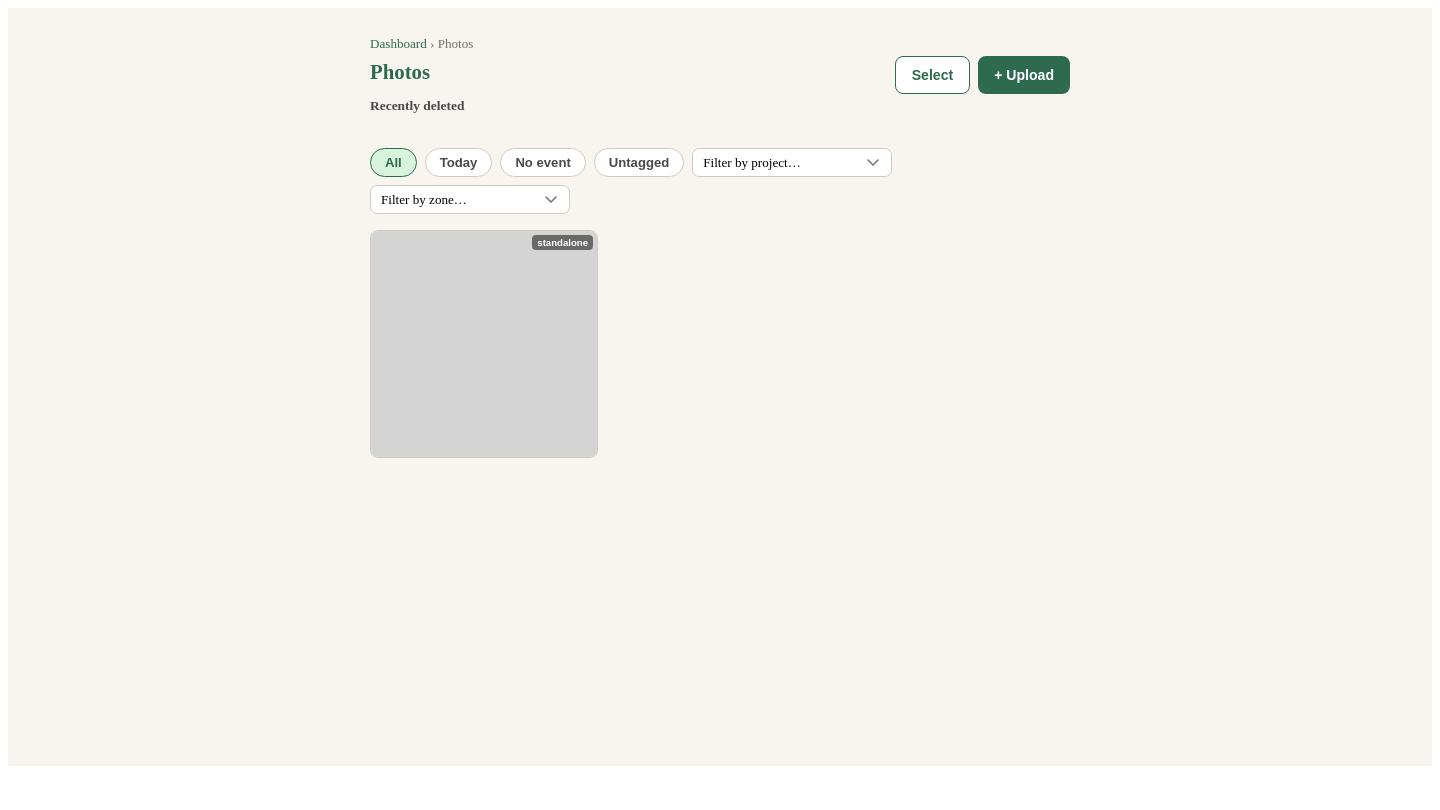
it: PhotoLibrary — reload gate (V4-DIRTYGUARDSWEEP-001) › does NOT hold the reload for a multi-select selection
Click the button "Select" at coordinates (932, 75), box [895,56,970,94]
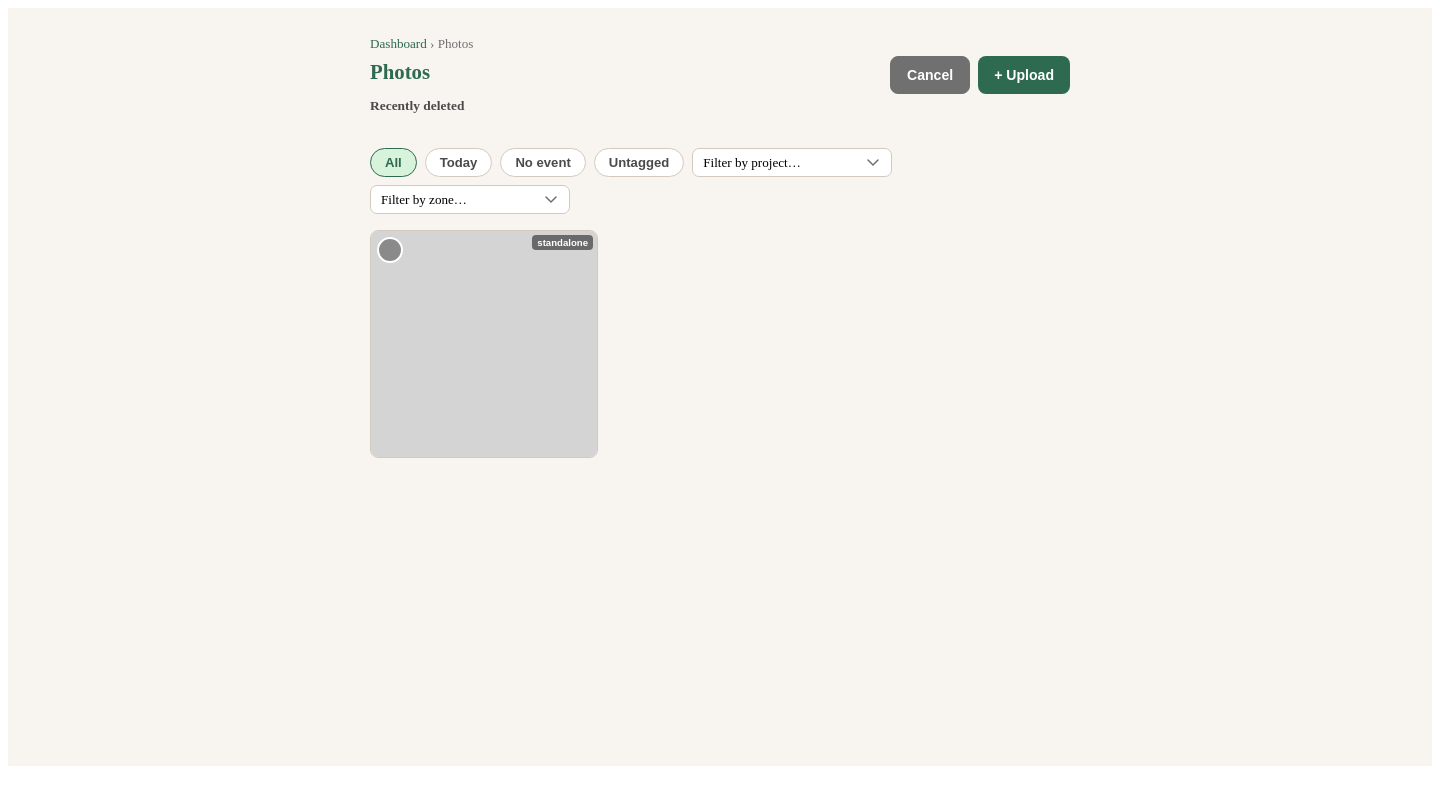
Click the button with alt text "tag me" at coordinates (484, 344), box [370,230,598,458]
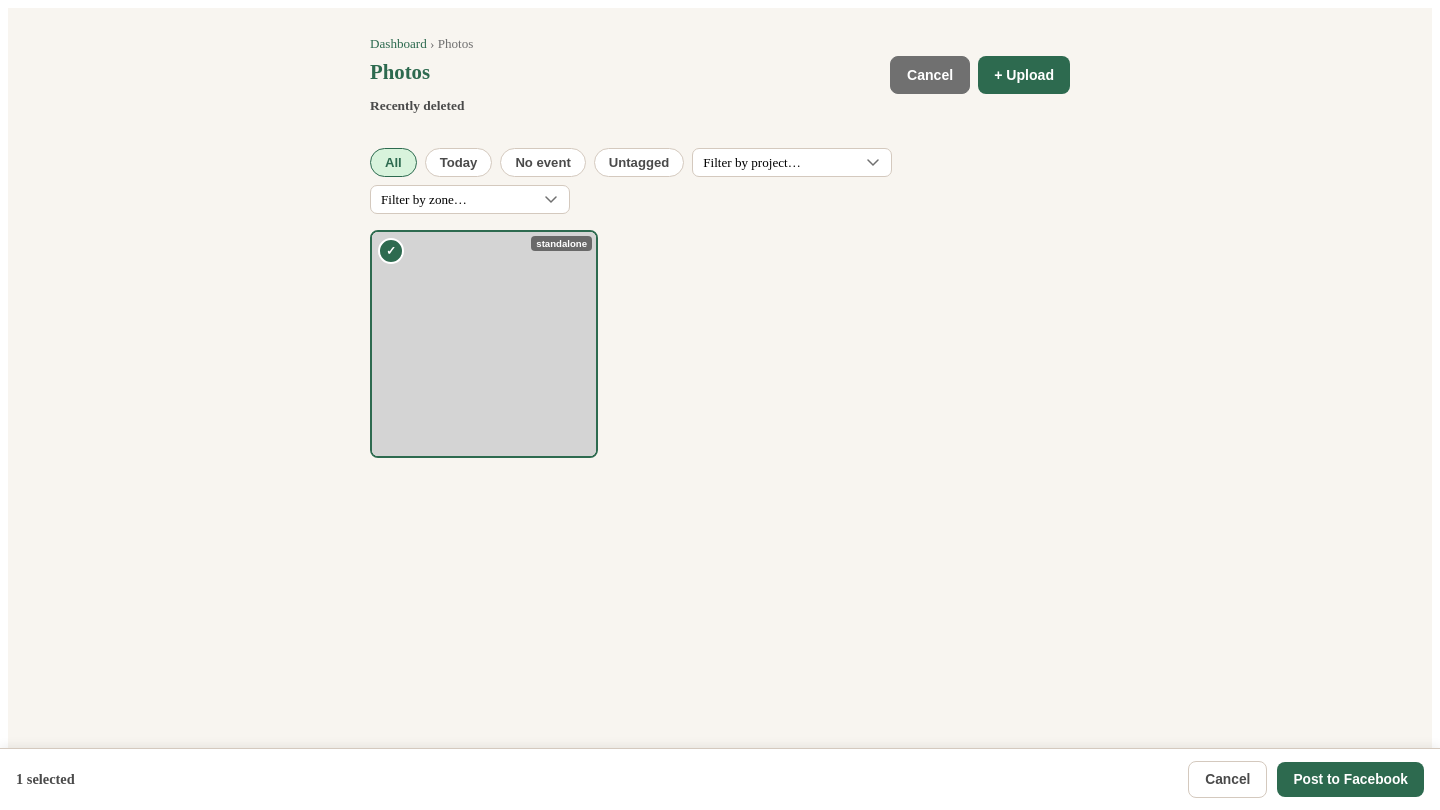
Check: the element with test id "pl-select-bar" is shown, box [0,748,1439,809]
